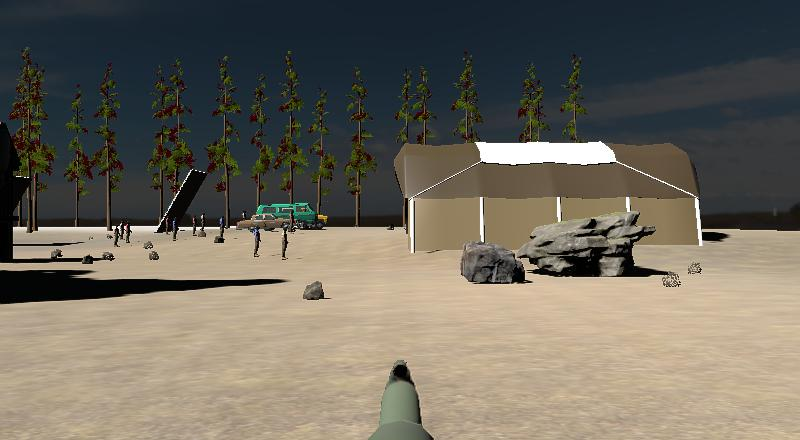Human: (280, 224, 290, 262), (253, 228, 262, 259), (171, 216, 180, 242), (218, 216, 227, 240), (200, 210, 208, 234), (124, 221, 132, 245), (191, 213, 198, 237), (114, 224, 121, 247)
car: (255, 204, 315, 227), (233, 214, 296, 231)
